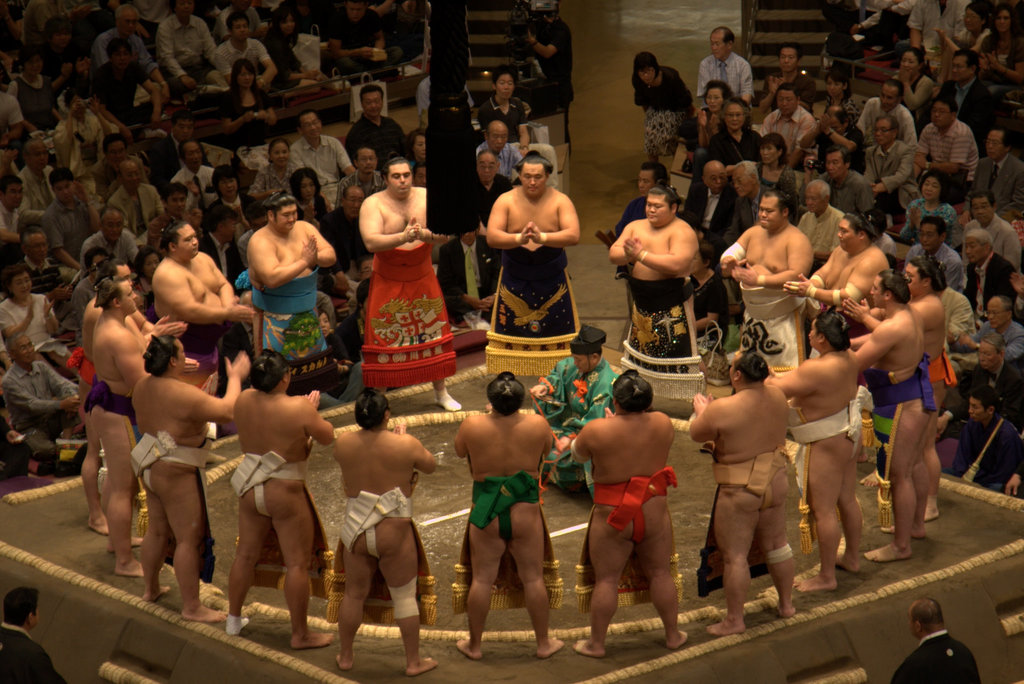Person: (0, 0, 1024, 684)
